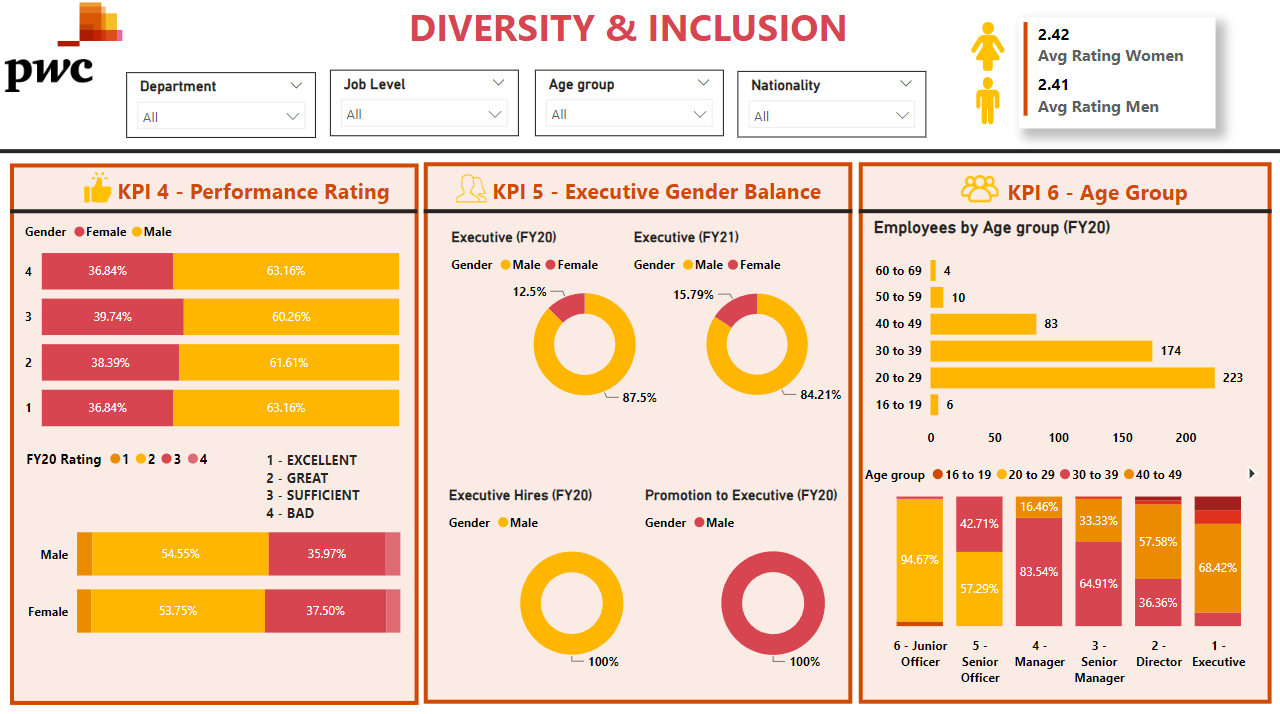

Layout of this report page (visuals, bound fields, positions):
{"tool":"powerbi","page":{"name":"Page 2","canvas":[1280,720],"ordinal":1},"visuals":[{"type":"shape","box":[858.6,165.7,412.9,541.4],"z":0},{"type":"shape","box":[10,167.1,408.6,541.4],"z":1000},{"type":"shape","box":[424.3,165.7,428.6,541.4],"z":2000},{"type":"textbox","box":[404.3,0,463.8,73.9],"z":3000},{"type":"image","box":[0,0,127.5,102.9],"z":4000},{"type":"slicer","fields":{"Values":["Pharma Group AG.Last Department in FY20"]},"box":[125.8,75.7,189.9,65.2],"z":5000},{"type":"slicer","fields":{"Values":["Pharma Group AG.Broad region group: nationality 1"]},"box":[737.7,74.5,188.4,66.7],"z":6000},{"type":"slicer","fields":{"Values":["Pharma Group AG.Age group"]},"box":[534.5,74.2,188.4,66.7],"z":7000},{"type":"slicer","fields":{"Values":["Pharma Group AG.Job Level after FY20 promotions"]},"box":[330.1,74.2,188.4,66.7],"z":8000},{"type":"shape","box":[10.1,208.7,407.2,13],"z":9000},{"type":"shape","box":[424.3,208.6,428.6,12.9],"z":10000},{"type":"shape","box":[858.6,208.6,412.9,12.9],"z":11000},{"type":"image","box":[955.7,75.7,62.9,57.1],"z":12000},{"type":"image","box":[955.7,21.4,62.9,58.6],"z":13000},{"type":"textbox","box":[104.3,175.4,300,40.6],"z":14000},{"type":"textbox","box":[487,175.4,352.2,40.6],"z":15000},{"type":"textbox","box":[1002.9,175.7,212.9,40],"z":16000},{"type":"donutChart","title":"Executive (FY21)","fields":{"Category":["Pharma Group AG.Gender"],"Y":["CountNonNull(Pharma Group AG.Employee ID)"],"Series":["Pharma Group AG.Job Level after FY21 promotions"]},"box":[628.6,232.9,257.1,187.1],"z":17000},{"type":"donutChart","title":"Executive (FY20)","fields":{"Category":["Pharma Group AG.Gender"],"Y":["CountNonNull(Pharma Group AG.Employee ID)"],"Series":["Pharma Group AG.Job Level after FY20 promotions"]},"box":[445.7,232.9,277.1,187.1],"z":18000},{"type":"donutChart","title":"Executive Hires (FY20)","fields":{"Category":["Pharma Group AG.Gender","Pharma Group AG.New hire FY20?"],"Series":["Pharma Group AG.Job Level after FY20 promotions"],"Y":["CountNonNull(Pharma Group AG.Employee ID)"]},"box":[443.5,489.9,256.5,189.9],"z":19000},{"type":"donutChart","title":"Promotion to Executive (FY20)","fields":{"Category":["Pharma Group AG.Gender","Pharma Group AG.New hire FY20?","Pharma Group AG.Promotion in FY20?"],"Series":["Pharma Group AG.Job Level after FY20 promotions"],"Y":["CountNonNull(Pharma Group AG.Employee ID)"]},"box":[640.6,489.9,266.7,189.9],"z":20000},{"type":"clusteredBarChart","title":"Employees by Age group (FY20)","fields":{"Category":["Pharma Group AG.Age group"],"Y":["CountNonNull(Pharma Group AG.Employee ID)"]},"box":[868.6,221.4,391.4,238.6],"z":21000},{"type":"hundredPercentStackedColumnChart","fields":{"Series":["Pharma Group AG.Age group"],"Category":["Pharma Group AG.Job Level after FY21 promotions"],"Y":["CountNonNull(Pharma Group AG.Employee ID)"]},"box":[860,458.6,411.4,238.6],"z":22000},{"type":"hundredPercentStackedBarChart","fields":{"Series":["Pharma Group AG.Gender"],"Category":["Pharma Group AG.FY20 Performance Rating"],"Y":["CountNonNull(Pharma Group AG.Employee ID)"]},"box":[20,215.7,384.3,227.1],"z":23000},{"type":"shape","box":[0,144.3,1280,22.9],"z":24000},{"type":"hundredPercentStackedBarChart","fields":{"Category":["Pharma Group AG.Gender"],"Y":["CountNonNull(Pharma Group AG.Employee ID)"],"Series":["Pharma Group AG.FY20 Performance Rating"]},"box":[21.4,442.9,384.3,252.9],"z":25000},{"type":"textbox","box":[261.4,450,135.7,81.4],"z":26000},{"type":"multiRowCard","fields":{"Values":["Pharma Group AG.Avg.Rating Women","Pharma Group AG.Avg.Rating Men"]},"box":[1018.6,21.4,197.1,111.4],"z":27000},{"type":"image","box":[75.7,171.4,42.9,40],"z":28000},{"type":"image","box":[451.4,171.4,40,42.9],"z":29000},{"type":"image","box":[955.7,168.6,47.1,48.6],"z":30000}]}

Visuals, with their boxes in screenshot pixels (x1, y1, x2, y2), scaled from the page's 1280x720 canvas onto the 1280x714 screenshot:
shape: <bbox>859, 164, 1272, 701</bbox>
shape: <bbox>10, 166, 419, 703</bbox>
shape: <bbox>424, 164, 853, 701</bbox>
textbox: <bbox>404, 0, 868, 73</bbox>
image: <bbox>0, 0, 128, 102</bbox>
slicer - Pharma Group AG.Last Department in FY20: <bbox>126, 75, 316, 140</bbox>
slicer - Pharma Group AG.Broad region group: nationality 1: <bbox>738, 74, 926, 140</bbox>
slicer - Pharma Group AG.Age group: <bbox>534, 74, 723, 140</bbox>
slicer - Pharma Group AG.Job Level after FY20 promotions: <bbox>330, 74, 518, 140</bbox>
shape: <bbox>10, 207, 417, 220</bbox>
shape: <bbox>424, 207, 853, 220</bbox>
shape: <bbox>859, 207, 1272, 220</bbox>
image: <bbox>956, 75, 1019, 132</bbox>
image: <bbox>956, 21, 1019, 79</bbox>
textbox: <bbox>104, 174, 404, 214</bbox>
textbox: <bbox>487, 174, 839, 214</bbox>
textbox: <bbox>1003, 174, 1216, 214</bbox>
"Executive (FY21)" donutChart: <bbox>629, 231, 886, 416</bbox>
"Executive (FY20)" donutChart: <bbox>446, 231, 723, 416</bbox>
"Executive Hires (FY20)" donutChart: <bbox>444, 486, 700, 674</bbox>
"Promotion to Executive (FY20)" donutChart: <bbox>641, 486, 907, 674</bbox>
"Employees by Age group (FY20)" clusteredBarChart: <bbox>869, 220, 1260, 456</bbox>
hundredPercentStackedColumnChart - Pharma Group AG.Age group x Pharma Group AG.Job Level after FY21 promotions: <bbox>860, 455, 1271, 691</bbox>
hundredPercentStackedBarChart - Pharma Group AG.Gender x Pharma Group AG.FY20 Performance Rating: <bbox>20, 214, 404, 439</bbox>
shape: <bbox>0, 143, 1279, 166</bbox>
hundredPercentStackedBarChart - Pharma Group AG.Gender x CountNonNull(Pharma Group AG.Employee ID): <bbox>21, 439, 406, 690</bbox>
textbox: <bbox>261, 446, 397, 527</bbox>
multiRowCard - Pharma Group AG.Avg.Rating Women x Pharma Group AG.Avg.Rating Men: <bbox>1019, 21, 1216, 132</bbox>
image: <bbox>76, 170, 119, 210</bbox>
image: <bbox>451, 170, 491, 213</bbox>
image: <bbox>956, 167, 1003, 215</bbox>
